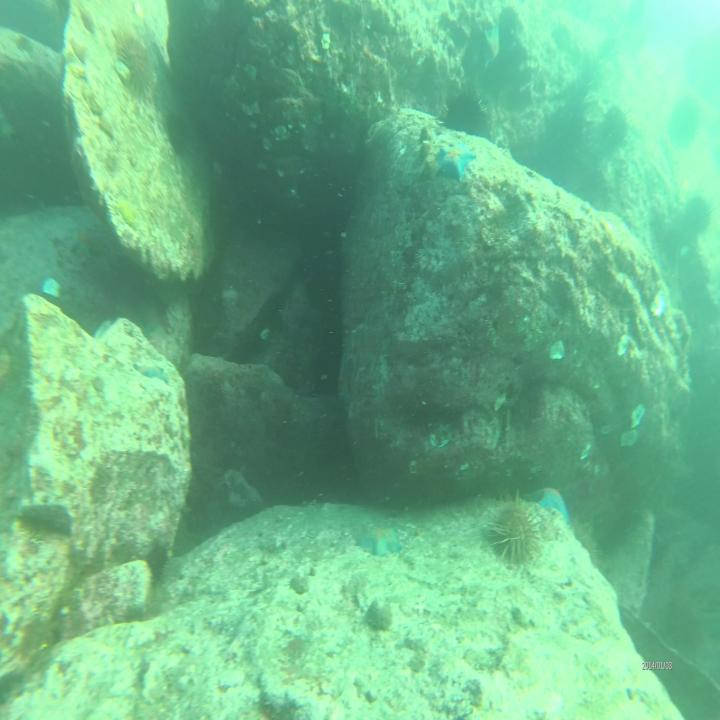echinus: (489, 498, 547, 567), (115, 31, 153, 100), (600, 108, 630, 152), (166, 108, 190, 159), (688, 194, 710, 232)
starfish: (354, 522, 404, 558), (437, 140, 474, 187), (531, 483, 571, 523), (478, 23, 502, 73), (134, 355, 168, 384)
